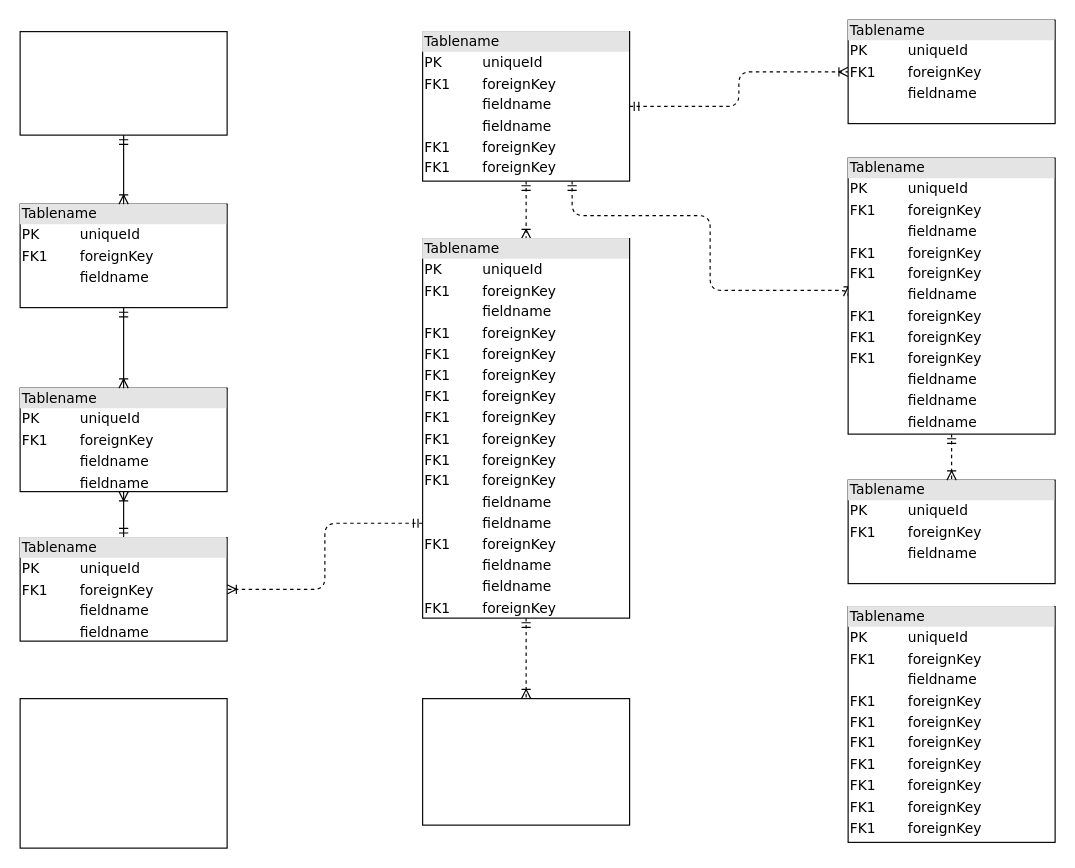
This 1075x868 diagram has some shape labels left out. The shapes that lost their labels are listed below. From the top down, each one's centre as x and y in pixels, then its label:
At point (123, 82): "Tablename PK uniqueId FK1 foreignKey fieldname00".
At point (123, 772): "Tablename PK uniqueId FK1 foreignKey fieldname fieldname fieldname fieldname".
At point (525, 761): "Tablename PK uniqueId FK1 foreignKey fieldname fieldname FK1 foreignKey".
